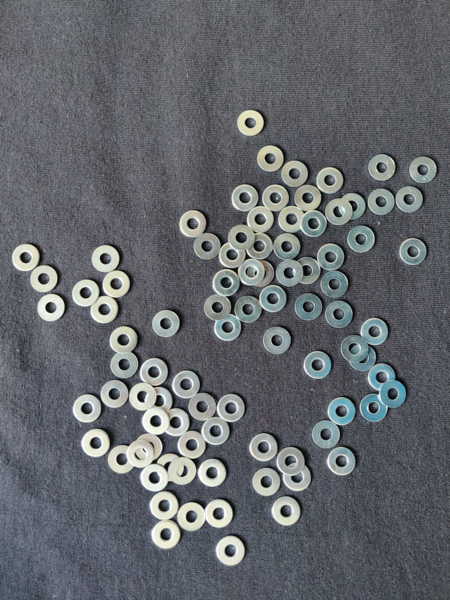circle: (328, 445, 359, 480), (215, 535, 246, 569), (407, 155, 438, 187), (177, 502, 208, 534), (311, 420, 342, 451), (251, 467, 281, 499), (324, 301, 355, 331), (271, 497, 302, 527), (71, 393, 102, 423), (263, 325, 292, 357), (152, 309, 182, 339), (37, 293, 67, 323), (400, 237, 429, 268), (348, 224, 377, 255), (205, 499, 234, 530), (92, 244, 121, 275), (237, 108, 267, 137), (293, 257, 322, 287), (173, 369, 202, 399), (145, 387, 174, 417), (140, 357, 169, 387), (139, 464, 169, 493), (128, 382, 157, 412), (100, 379, 129, 409), (368, 364, 399, 392), (278, 446, 306, 477), (162, 409, 190, 440), (103, 270, 134, 298), (29, 264, 60, 292), (73, 277, 100, 309), (282, 160, 311, 189), (233, 296, 262, 325), (361, 317, 390, 346), (328, 397, 357, 426), (217, 394, 246, 423), (152, 521, 181, 550), (110, 351, 139, 380), (11, 243, 40, 272), (341, 192, 369, 222), (321, 270, 351, 298), (272, 234, 302, 262), (294, 293, 322, 323), (305, 350, 333, 380), (250, 432, 278, 462), (169, 457, 197, 487), (249, 260, 276, 291), (194, 231, 221, 262), (158, 452, 184, 484), (397, 185, 425, 214), (381, 381, 409, 410), (360, 394, 389, 422), (203, 418, 231, 447), (200, 459, 228, 488), (189, 394, 217, 423), (177, 431, 206, 459), (81, 430, 110, 458), (109, 327, 138, 355), (256, 145, 286, 172), (202, 294, 232, 321), (151, 491, 178, 521), (91, 295, 118, 325), (368, 154, 396, 182), (294, 185, 322, 213), (213, 269, 241, 297), (180, 211, 208, 239), (341, 336, 369, 364), (350, 345, 378, 373), (276, 259, 303, 288), (108, 446, 135, 475), (370, 187, 396, 217), (318, 166, 345, 194), (318, 243, 346, 270), (246, 232, 273, 260), (260, 285, 287, 313), (287, 464, 314, 492), (134, 436, 163, 462), (127, 441, 153, 470), (302, 210, 327, 240), (239, 259, 266, 286), (141, 409, 168, 436), (326, 199, 352, 227), (248, 205, 274, 233), (233, 184, 259, 211), (216, 316, 242, 343), (264, 184, 289, 212), (229, 224, 254, 252), (220, 242, 246, 268), (278, 207, 305, 231)
